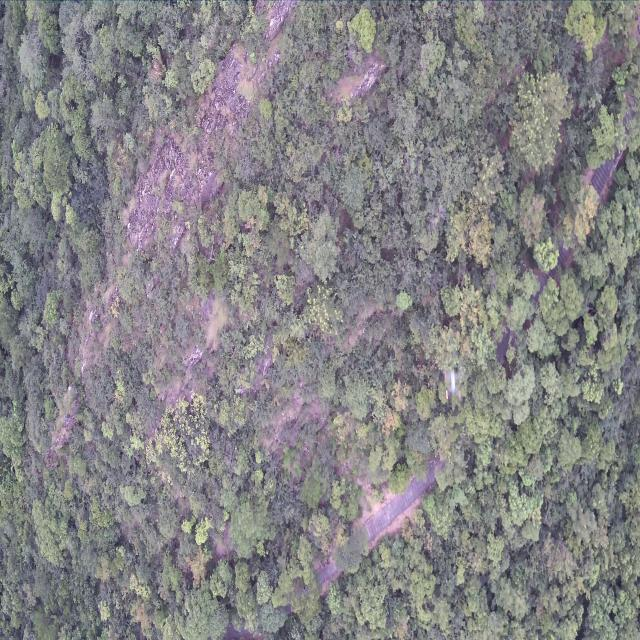UAV: (444, 369, 462, 400)
